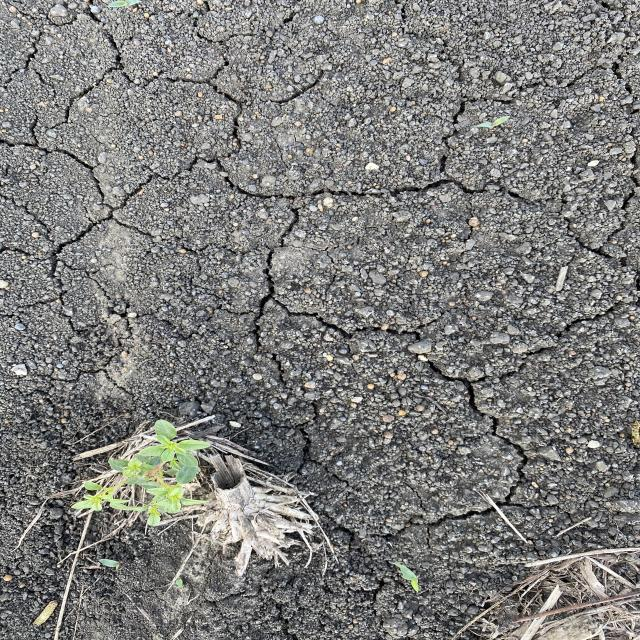Waterhemp: (69, 416, 216, 528)
